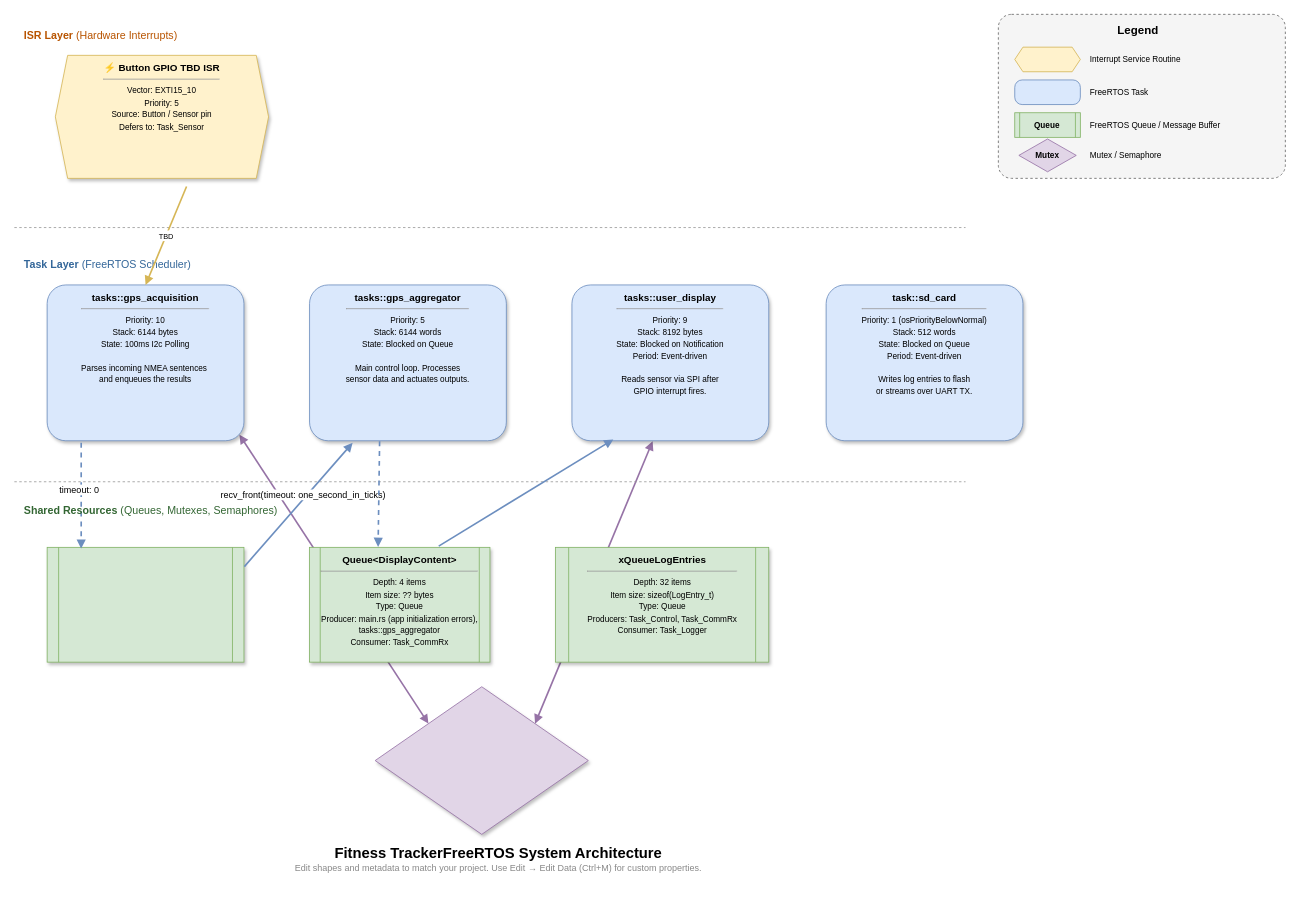
Image size: 1300x898. Some labels were removed from this diagram. The shapes that lost their labels are listed below. From the top down, each one's centre as x and y in pixels, then its label:
the point at 1047,59: ISR
the point at 1047,92: Task
the point at 146,605: Queue<FitnessTrackerSentence> Depth: 4 items Item size: ?? bytes Type: Queue
the point at 482,761: i2c_bus Type: Mutex Guards: I2c bus access
